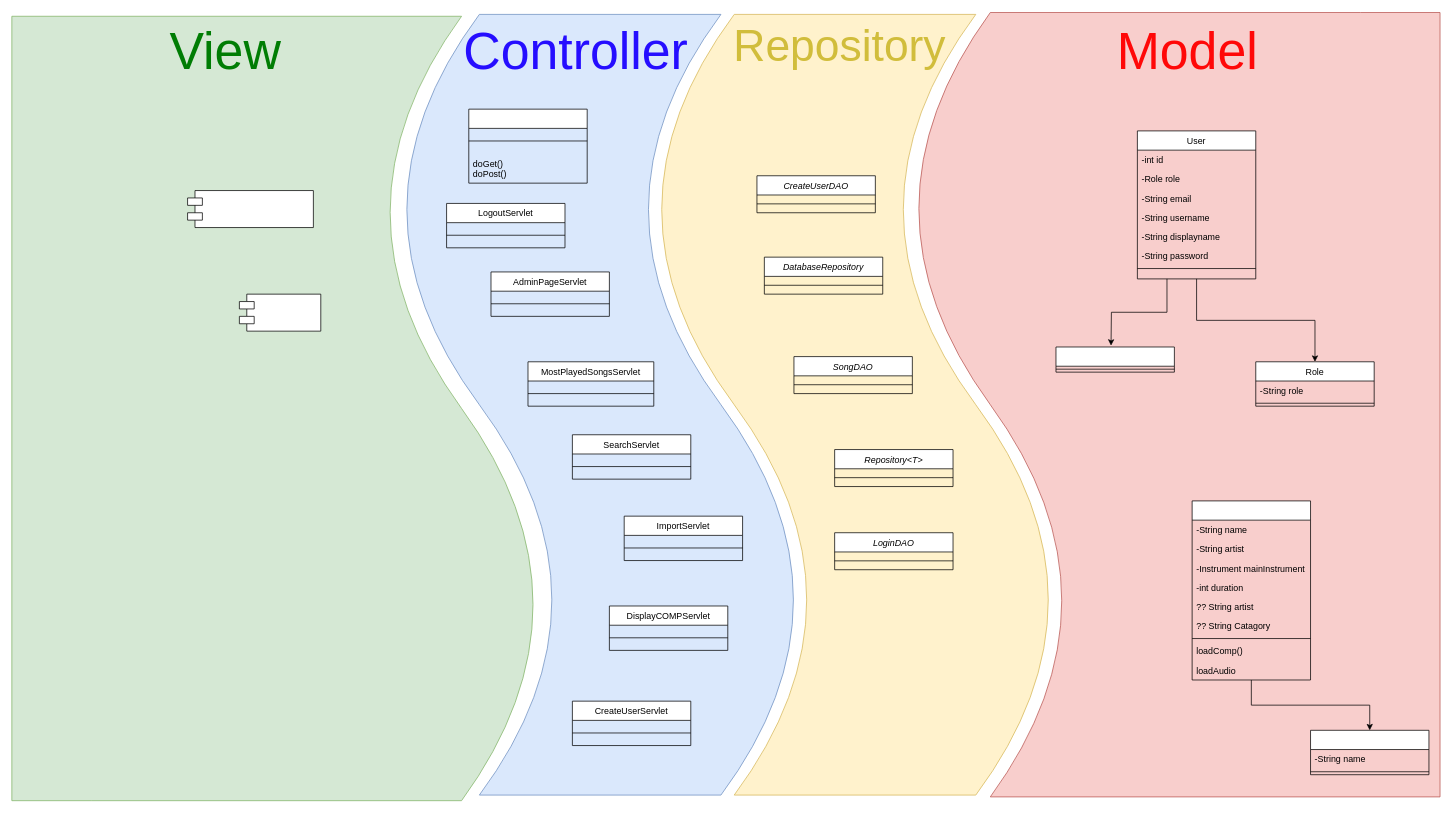
The diagram is 1452 pixels wide and 813 high, and some of its shapes have lost their labels. Each missing label, with the box of its shape:
createuser: (187, 190, 313, 228)
Instrument: (1310, 730, 1429, 775)
login: (239, 293, 321, 331)
LoginServlet: (468, 108, 587, 183)
Song: (1191, 500, 1311, 680)
UserSongHistory: (1055, 346, 1174, 372)
